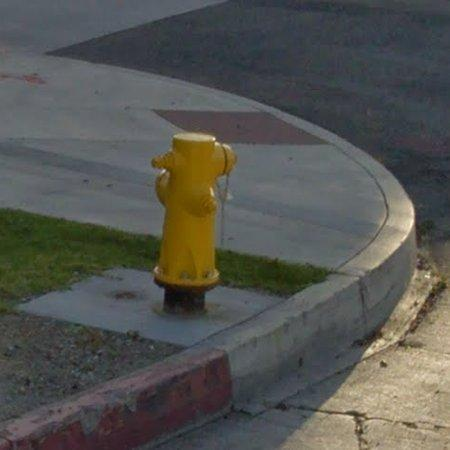a fire hydrant: (152, 133, 237, 314)
